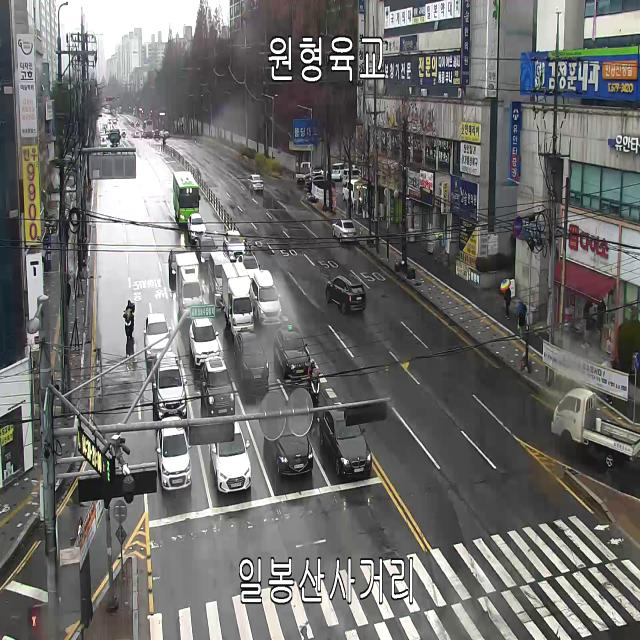Bus: (173, 171, 201, 223), (143, 120, 153, 138)
Car: (320, 408, 372, 478), (209, 420, 252, 492), (264, 418, 313, 475), (157, 416, 192, 490), (151, 352, 187, 419), (200, 356, 235, 417), (274, 325, 310, 379), (234, 332, 269, 384), (250, 270, 282, 326), (189, 317, 220, 369), (325, 275, 366, 314), (143, 313, 172, 362), (208, 251, 231, 300), (236, 254, 260, 292), (196, 236, 218, 270), (223, 230, 246, 261), (169, 247, 186, 283), (187, 213, 207, 243), (331, 219, 357, 242), (342, 179, 362, 206), (296, 161, 314, 186), (342, 169, 362, 186), (247, 172, 264, 192), (306, 173, 328, 187), (332, 162, 344, 182), (313, 167, 328, 179), (348, 164, 360, 169), (154, 130, 160, 138)
Motorcycle: (120, 299, 137, 346), (307, 354, 322, 406), (160, 132, 170, 151)
Truck: (551, 387, 640, 468), (222, 262, 254, 335), (176, 252, 204, 318), (110, 129, 120, 148)
